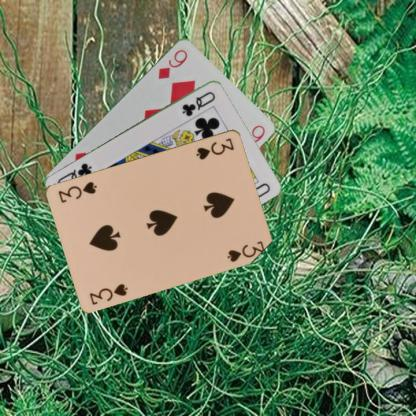3s: (193, 134, 236, 160), (87, 280, 130, 306)
9d: (155, 47, 189, 80)
Qc: (179, 88, 217, 117)
